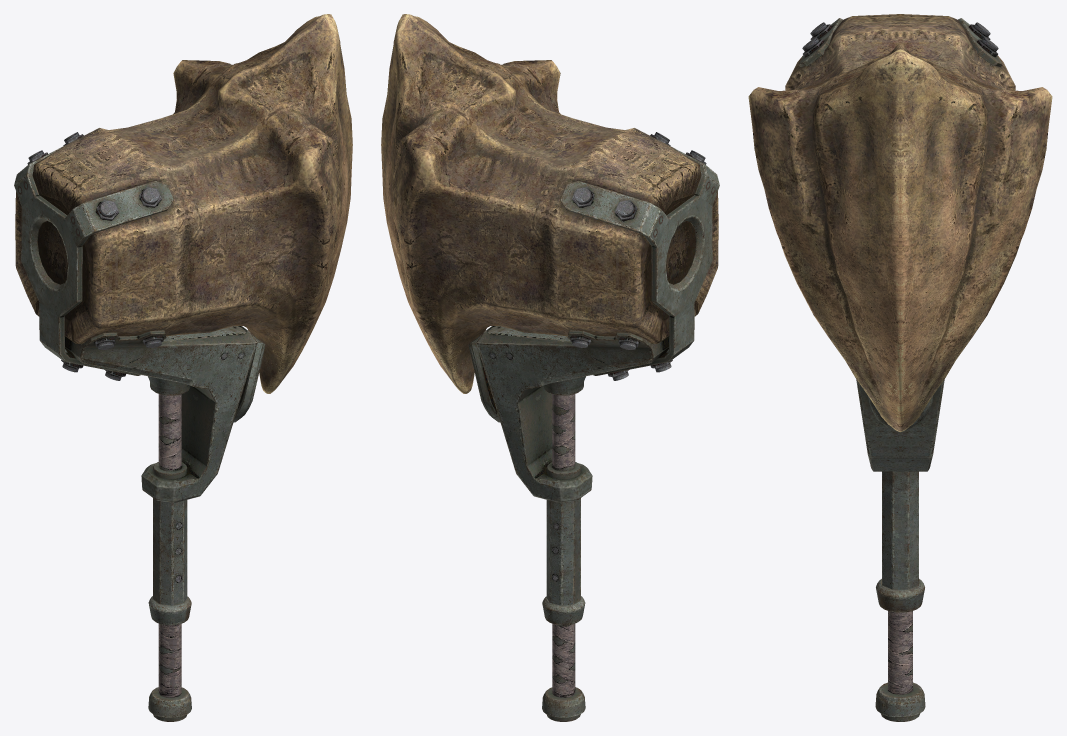
Rendered from bs_ham004.obj.
3 views of the same model, side by side, from view 1: azimuth 30°, elevation 25°; view 2: azimuth 150°, elevation 25°; view 3: azimuth 270°, elevation 25° (orthographic). The views are drawn at different scales.
Parts seen in each view (by area): view 1: bs_ham004_000_LOD_1; view 2: bs_ham004_000_LOD_1; view 3: bs_ham004_000_LOD_1.
Part boxes in pixels (box(x1,y1,x2,y2)): bs_ham004_000_LOD_1: box(14, 14, 352, 721); bs_ham004_000_LOD_1: box(381, 14, 719, 721); bs_ham004_000_LOD_1: box(748, 14, 1052, 721).
Size of the model in its own units: 91.58 by 192 by 70.4.
